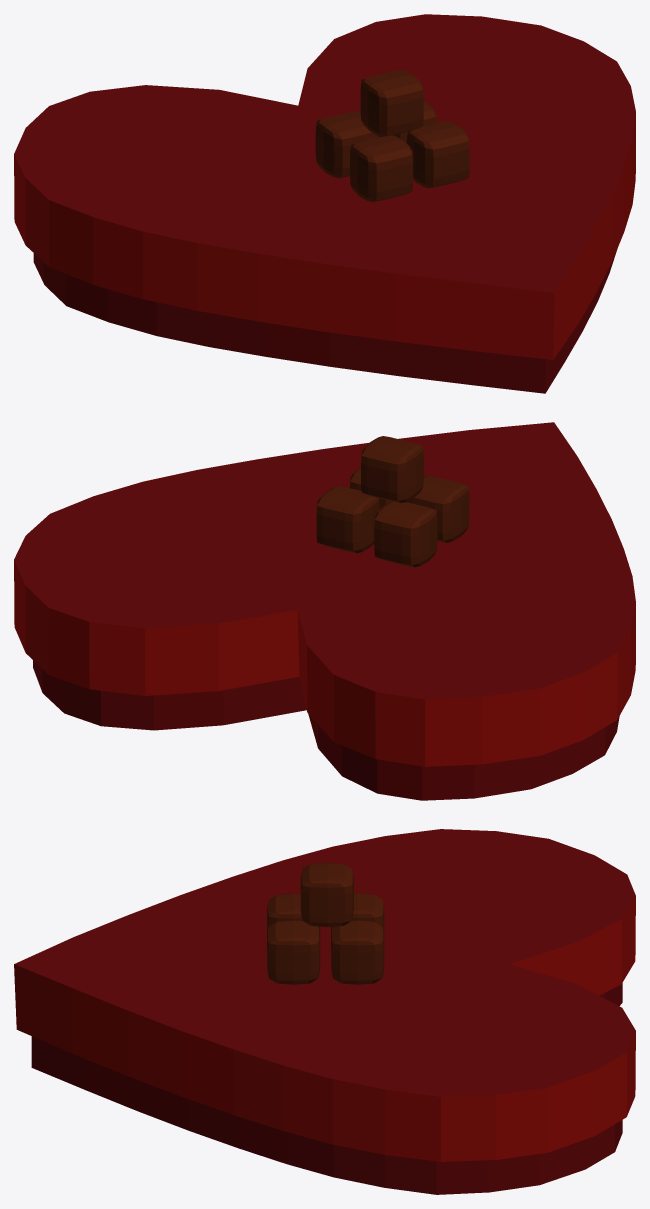
The model's file is HeartBoxClosed.fbx.
3 views of the same model, one above another, from view 1: azimuth 30°, elevation 25°; view 2: azimuth 150°, elevation 25°; view 3: azimuth 270°, elevation 25° (orthographic). The views are drawn at different scales.
Parts seen in each view (by area): view 1: ChocolateBoxModel2; view 2: ChocolateBoxModel2; view 3: ChocolateBoxModel2.
Part boxes in pixels (x1,y1,x2,y2): ChocolateBoxModel2: [14, 14, 635, 393]; ChocolateBoxModel2: [14, 422, 635, 800]; ChocolateBoxModel2: [14, 829, 635, 1194].
Size of the model in its own units: 236 by 80.43 by 231.
